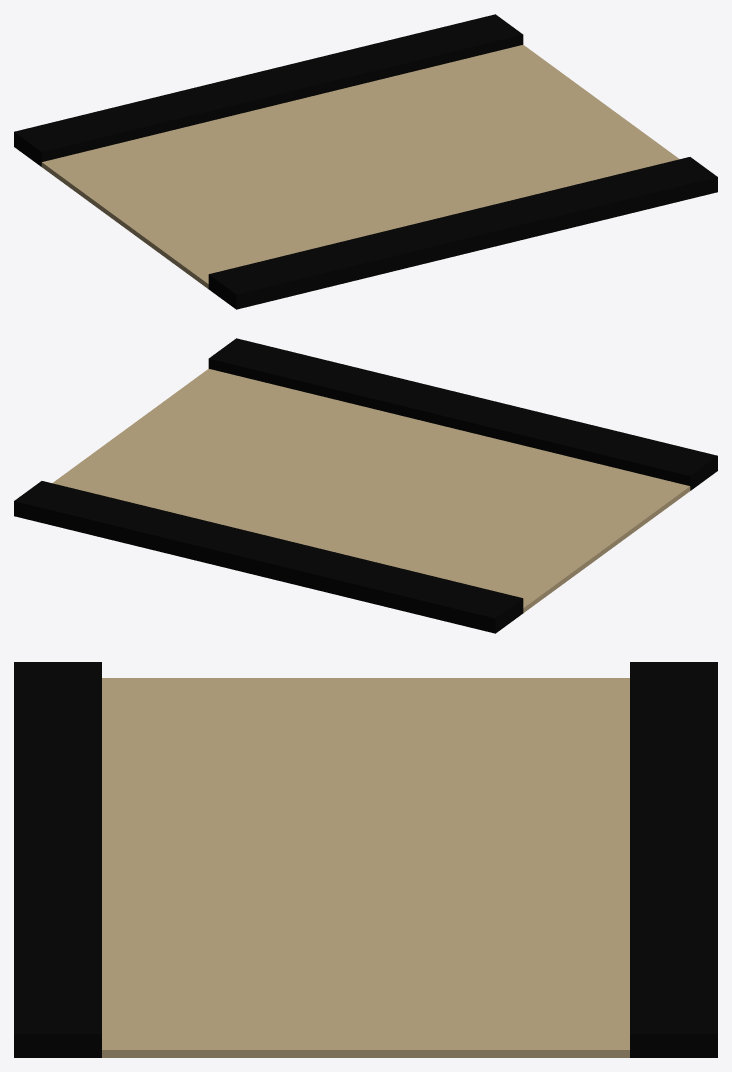
The model's file is RoadV1.fbx.
3 views of the same model, one above another, from view 1: azimuth 30°, elevation 25°; view 2: azimuth 150°, elevation 25°; view 3: azimuth 270°, elevation 25° (orthographic). The views are drawn at different scales.
Visible parts, largest first — view 1: Box001; view 2: Box001; view 3: Box001.
Boxes of the visible parts, x1,y1,x2,y2 form: Box001: [14, 14, 717, 309]; Box001: [14, 338, 717, 633]; Box001: [14, 662, 717, 1057].
Bounding box in the file's own units: 500 × 15 × 400.
